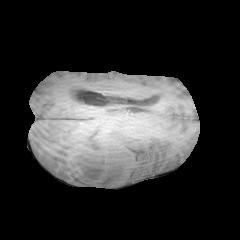glioma: (58, 131, 142, 184)
